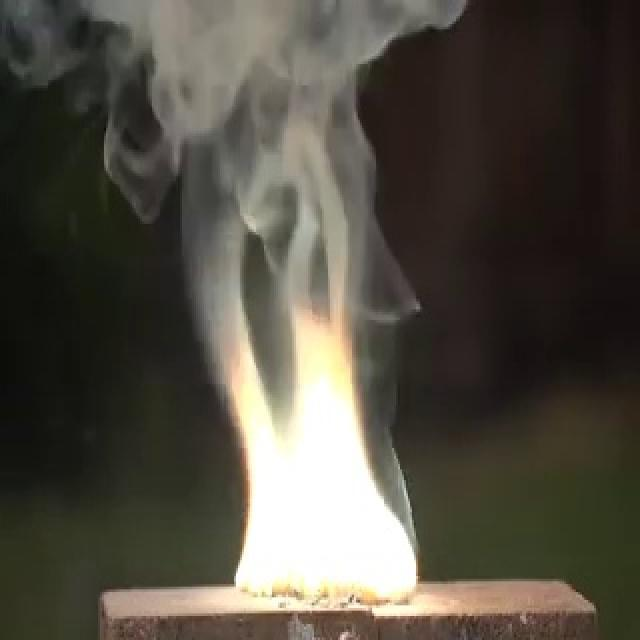fire: (220, 258, 420, 608)
